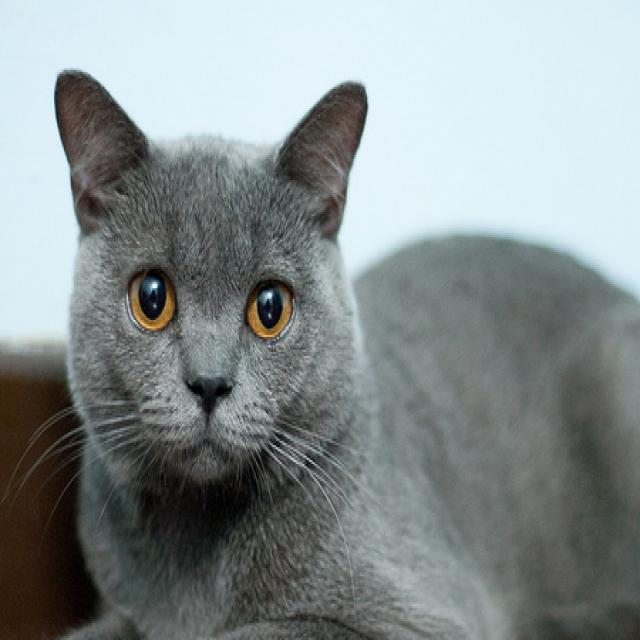British Shorthair: (17, 63, 640, 640)
